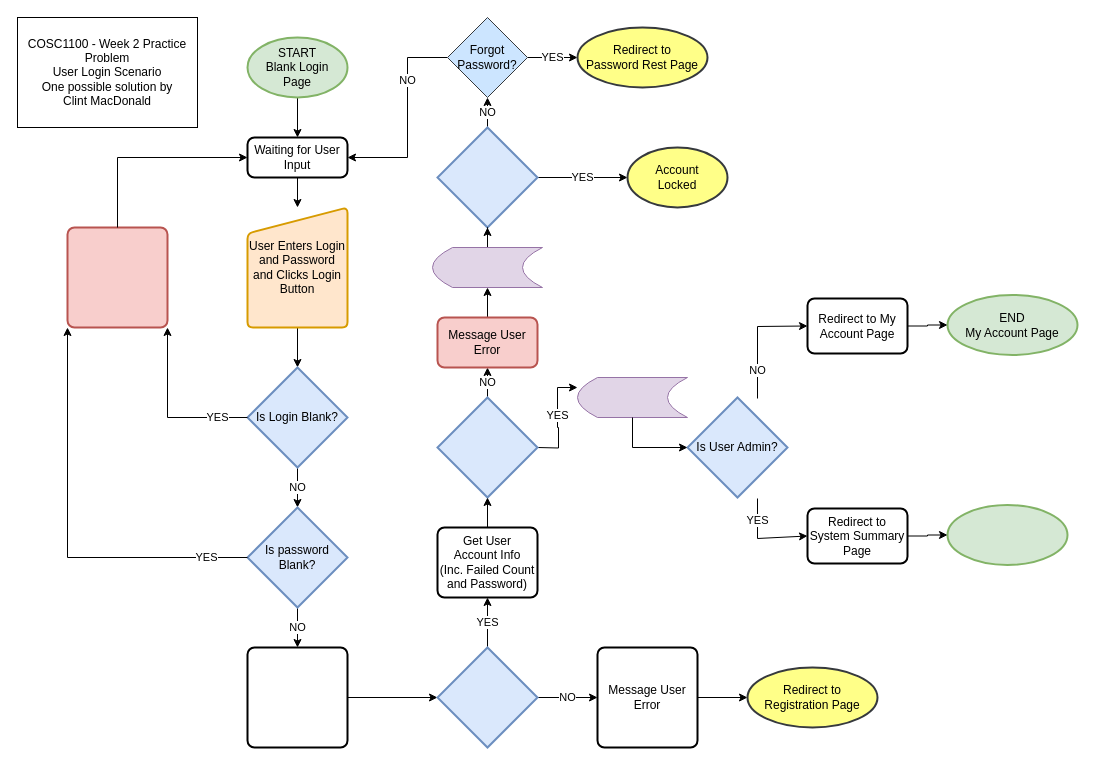
Image size: 1096x766. Some labels were removed from this diagram. Each missing label, with the centre of its shape:
"Allow Submission and start processing back-end" belongs at pixel 297 697.
"Does Password Match?" belongs at pixel 487 447.
"Does User Exist?" belongs at pixel 487 697.
"END System Summary" belongs at pixel 1007 535.
"Increment Fail Count by 1" belongs at pixel 487 267.
"Is Failed Attempts Max Exceeded?" belongs at pixel 487 177.
"Reset Failed Count to 0" belongs at pixel 632 397.
"Show User Error Message" belongs at pixel 117 277.
